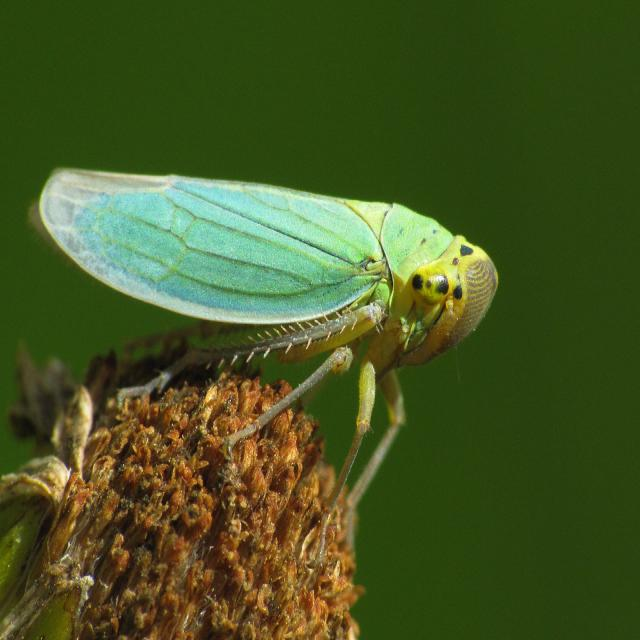wereng pada daun padi: (35, 159, 501, 563)
